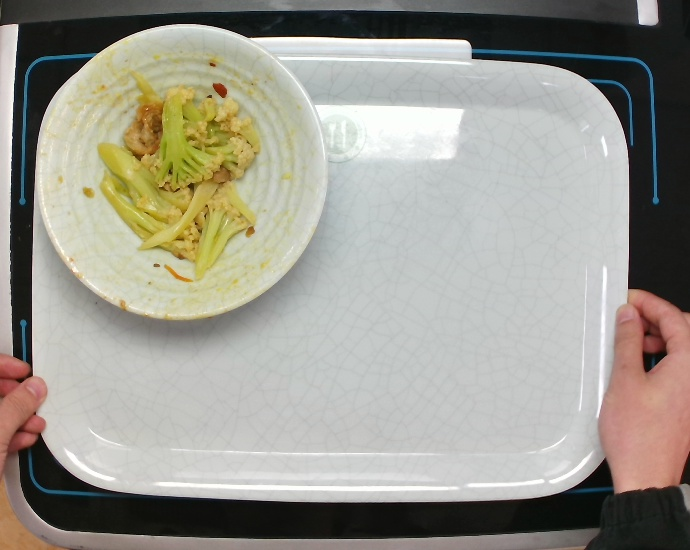JYsf-Xiao_Tang_Wan: (32, 22, 331, 321)
